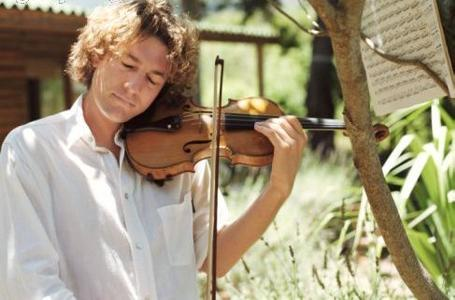person: (2, 2, 308, 300)
